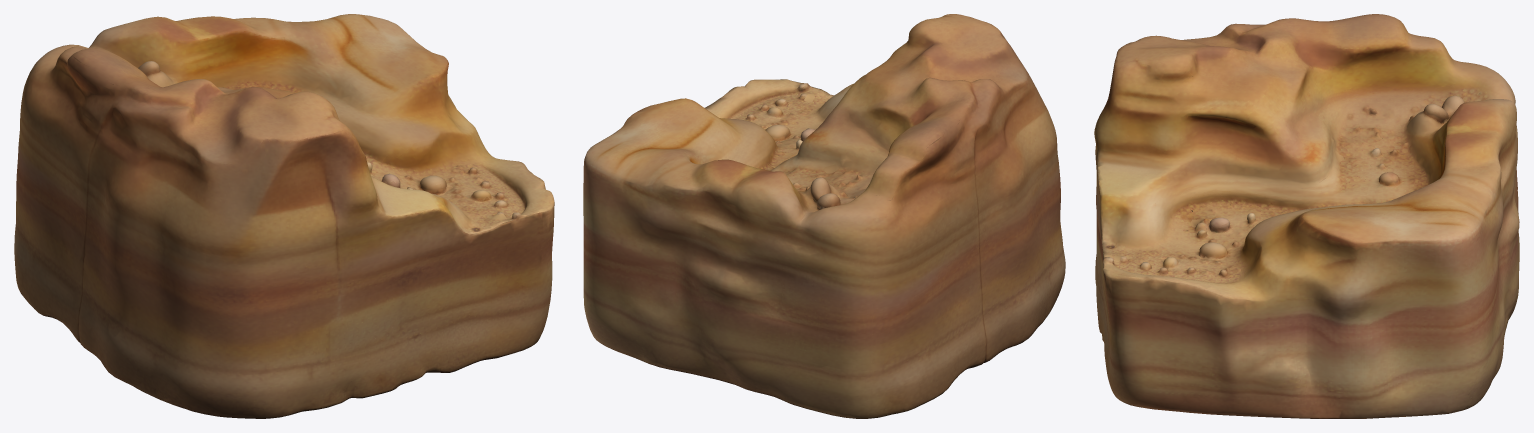
3 views of the same model, side by side, from view 1: azimuth 30°, elevation 25°; view 2: azimuth 150°, elevation 25°; view 3: azimuth 270°, elevation 25° (orthographic). The views are drawn at different scales.
Visible parts, largest first — view 1: world; view 2: world; view 3: world.
Part boxes in pixels (bbox=[...]): world: bbox=[14, 14, 554, 418]; world: bbox=[583, 14, 1065, 418]; world: bbox=[1094, 14, 1519, 418].
Size of the model in its own units: 22.3 by 15.11 by 22.4.
1 material, 1 textured.
